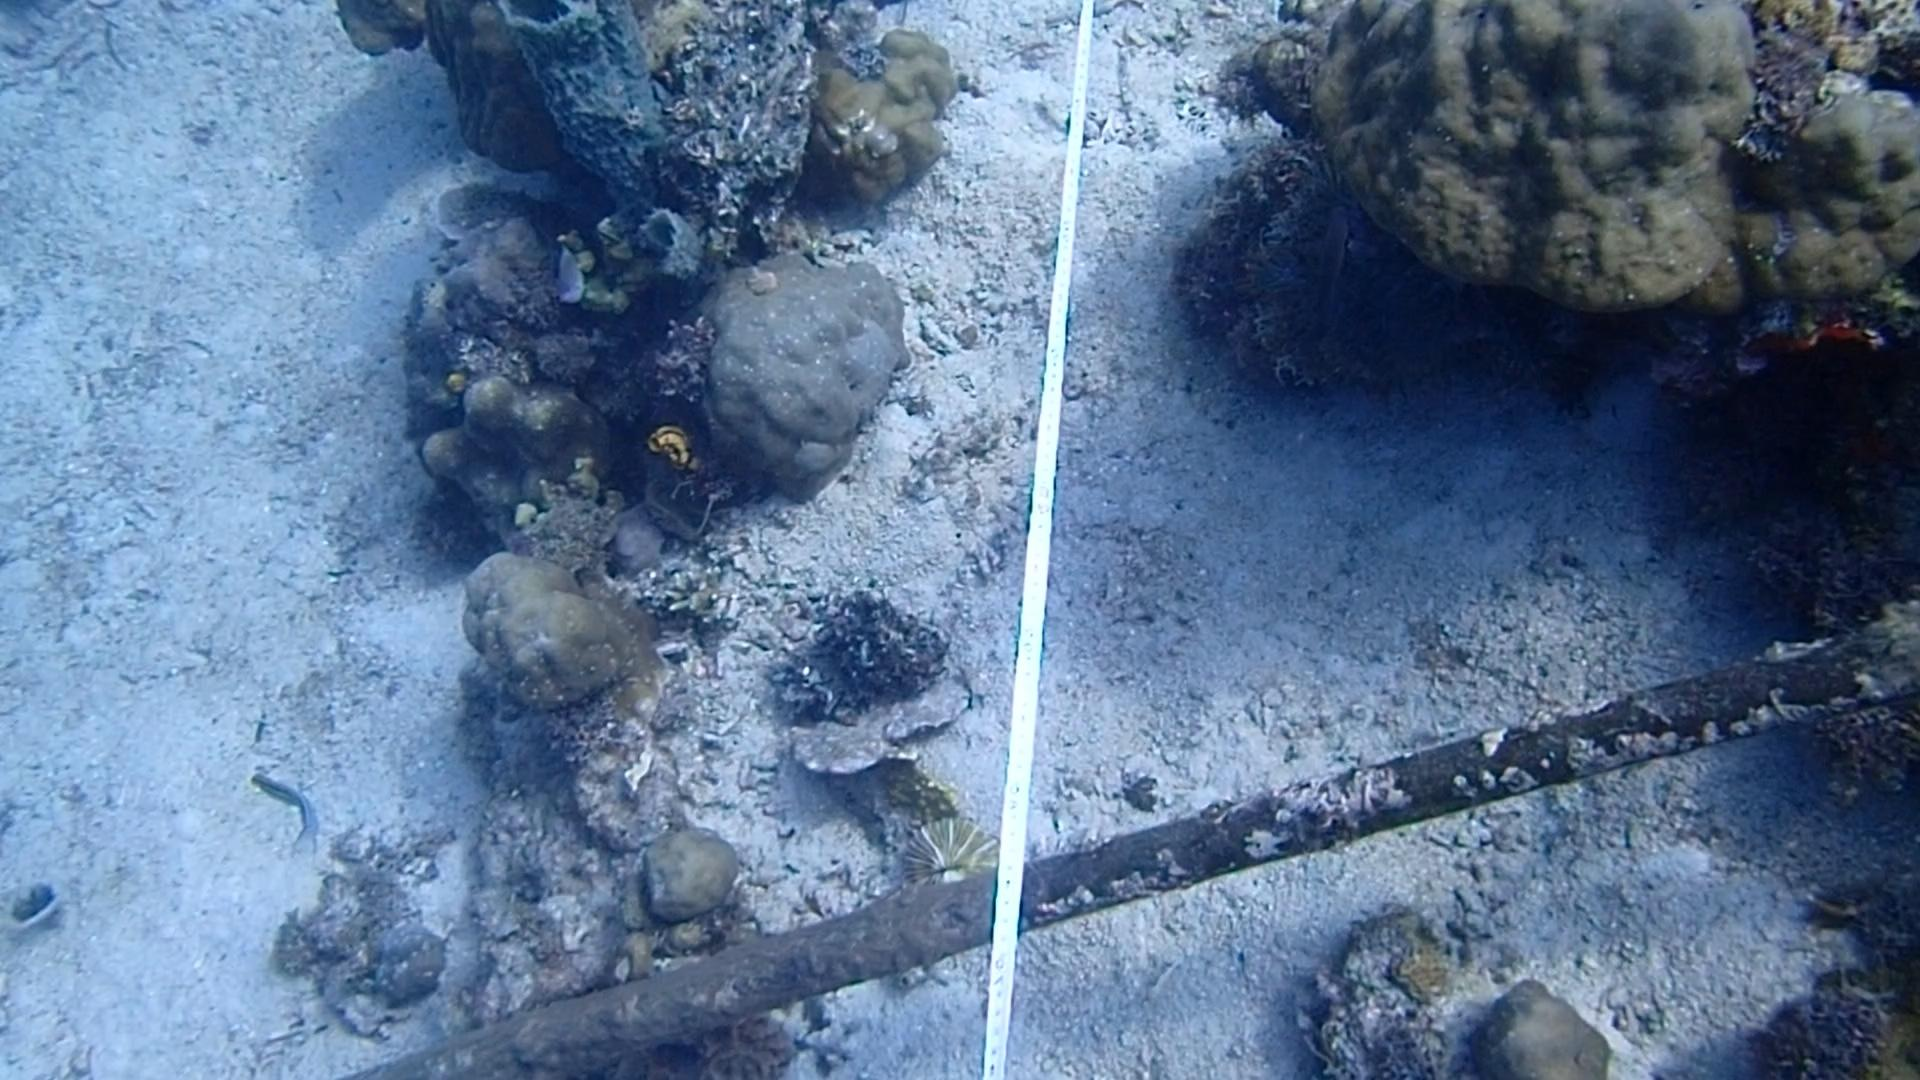Blue Nose Fish: (546, 237, 589, 315)
Dark Fish: (1296, 212, 1364, 316)
Striped Fish: (249, 762, 332, 864)
